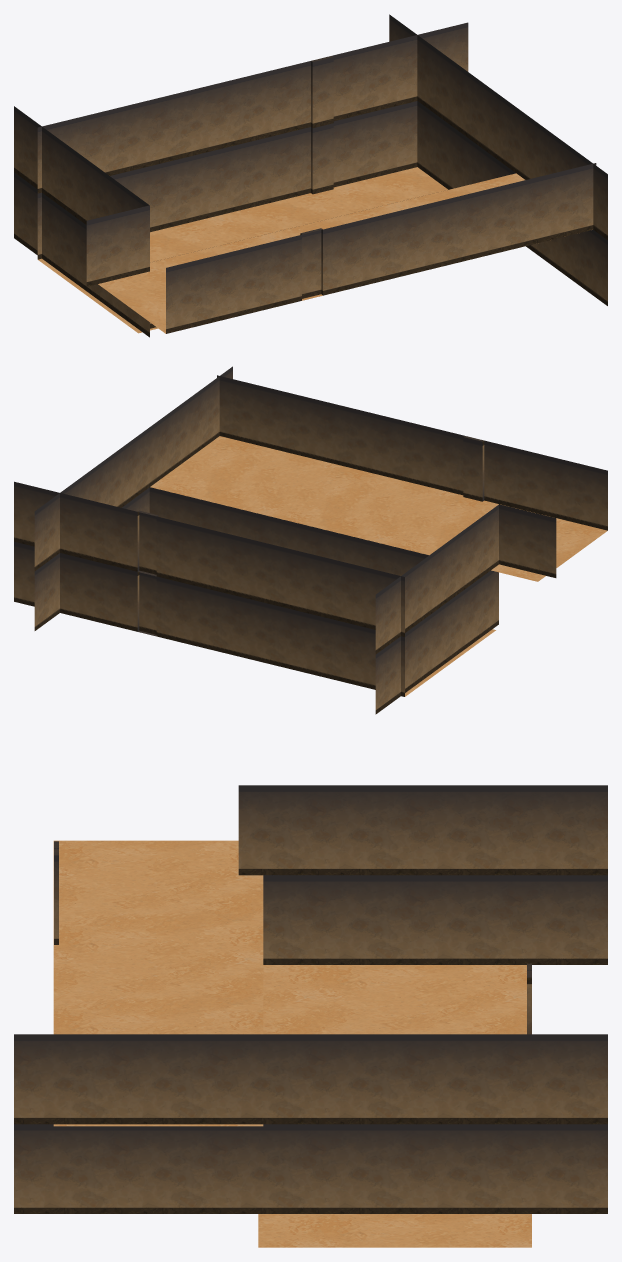
The model's file is nivelesRUnebound.fbx.
The picture shows the model from 3 angles, top to bottom: view 1: azimuth 30°, elevation 25°; view 2: azimuth 150°, elevation 25°; view 3: azimuth 270°, elevation 25°; orthographic projection. The views are drawn at different scales.
Parts seen in each view (by area): view 1: Plane, Plane.001; view 2: Plane, Plane.001; view 3: Plane, Plane.001.
Part boxes in pixels (x1,y1,x2,y2): Plane: [14, 14, 607, 337]; Plane.001: [38, 167, 524, 333]; Plane: [14, 366, 607, 714]; Plane.001: [150, 436, 607, 696]; Plane: [14, 785, 607, 1213]; Plane.001: [53, 840, 531, 1247].
Bounding box in the file's own units: 5531 × 1429 × 4278.
3 materials, 3 textured.
